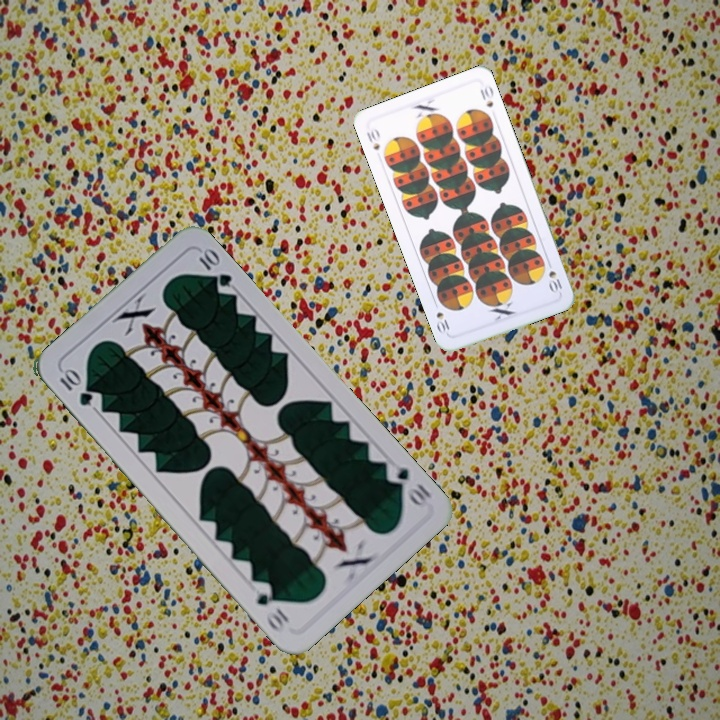G10: (381, 463, 434, 511), (55, 365, 96, 409)
S10: (545, 266, 565, 296), (362, 125, 382, 152)
